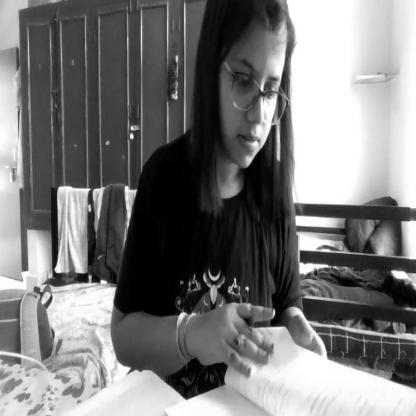Distracted: (206, 0, 298, 180)
